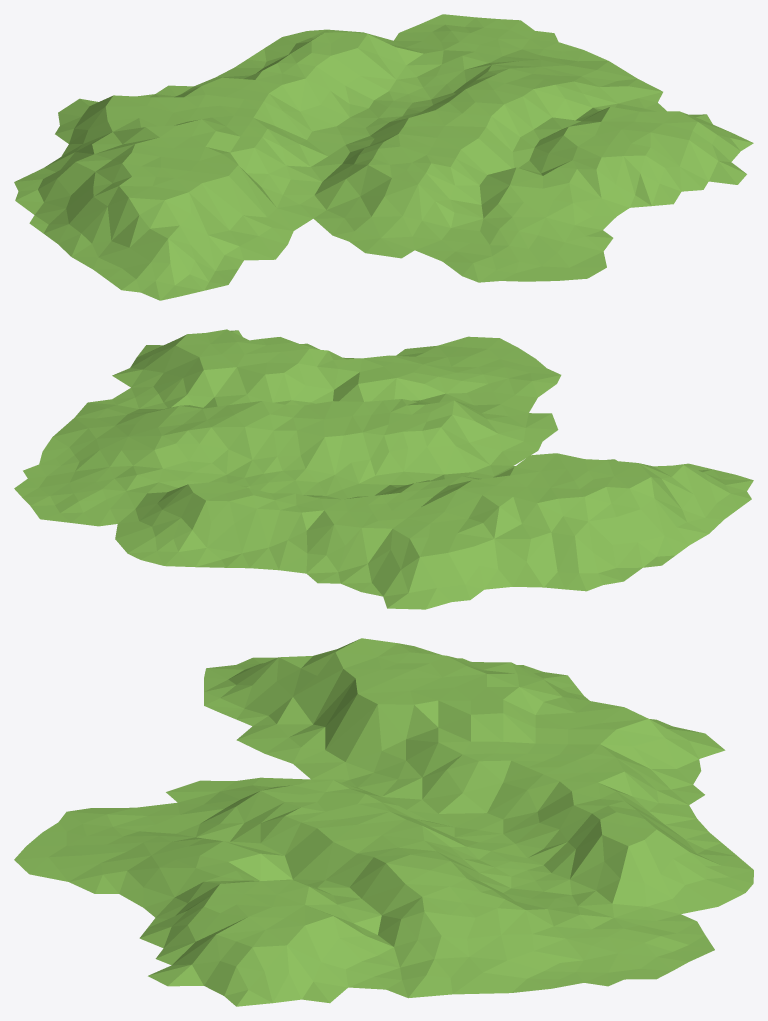
File: MT_Mountain_L_c_06_LOD.fbx
3 renders of one model, top to bottom at view 1: azimuth 30°, elevation 25°; view 2: azimuth 150°, elevation 25°; view 3: azimuth 270°, elevation 25°, orthographic. The views are drawn at different scales.
Parts seen in each view (by area): view 1: MT_Mountain_L_c_06_LOD0; view 2: MT_Mountain_L_c_06_LOD0; view 3: MT_Mountain_L_c_06_LOD0.
Part boxes in pixels (x1=…): MT_Mountain_L_c_06_LOD0: x1=14, y1=14, x2=753, y2=300; MT_Mountain_L_c_06_LOD0: x1=14, y1=329, x2=753, y2=609; MT_Mountain_L_c_06_LOD0: x1=14, y1=638, x2=753, y2=1006.
Size of what is drawn, in the model's own units: 8008 by 545 by 7150.
